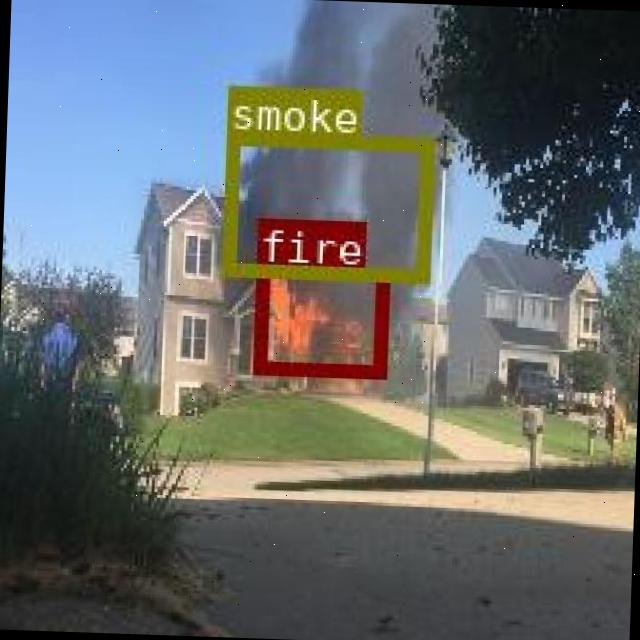fire: (251, 260, 387, 374)
smoke: (218, 128, 432, 280)
